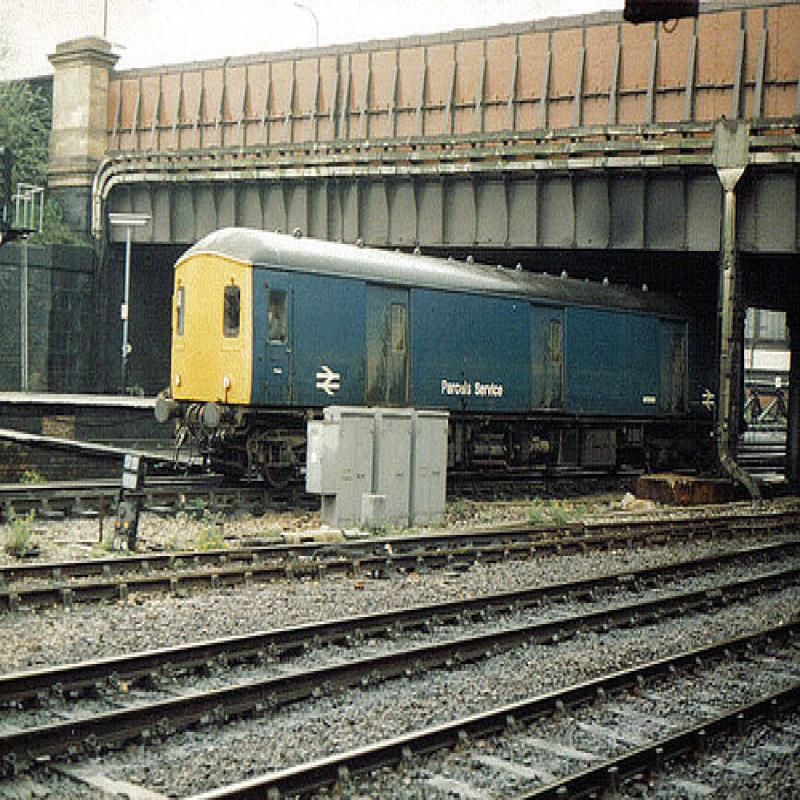train: (153, 226, 721, 496)
